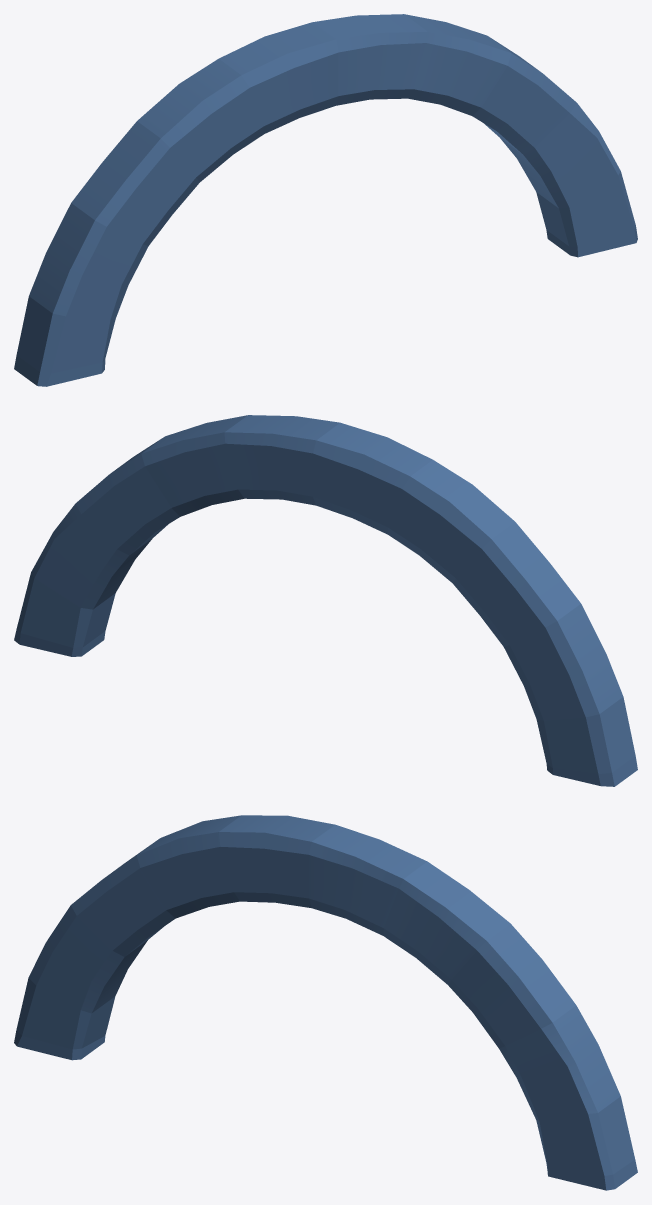
File: Door_Edge_01_Cut.fbx
3 views of the same model, one above another, from view 1: azimuth 30°, elevation 25°; view 2: azimuth 150°, elevation 25°; view 3: azimuth 330°, elevation 25° (orthographic).
Visible parts, largest first — view 1: Door_Edge_01_Cut; view 2: Door_Edge_01_Cut; view 3: Door_Edge_01_Cut.
Boxes of the visible parts, x1,y1,x2,y2 form: Door_Edge_01_Cut: (14,14,637,386); Door_Edge_01_Cut: (14,415,637,786); Door_Edge_01_Cut: (14,815,637,1190).
Bounding box in the file's own units: 460 × 200 × 40.34.
